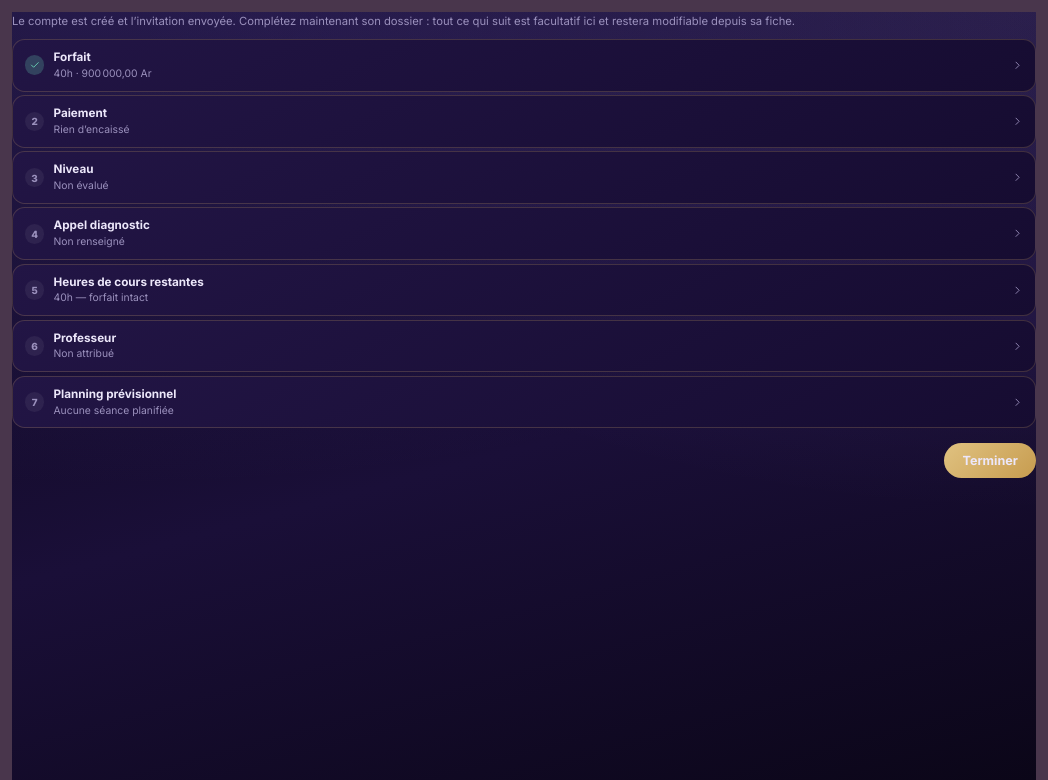
Scenario: CompleterDossierEtudiant › demande un professeur avant de laisser planifier
Click the button "7 Planning prévisionnel Aucune séance planifiée".
click(115, 394)  # box [13,377,1035,428]
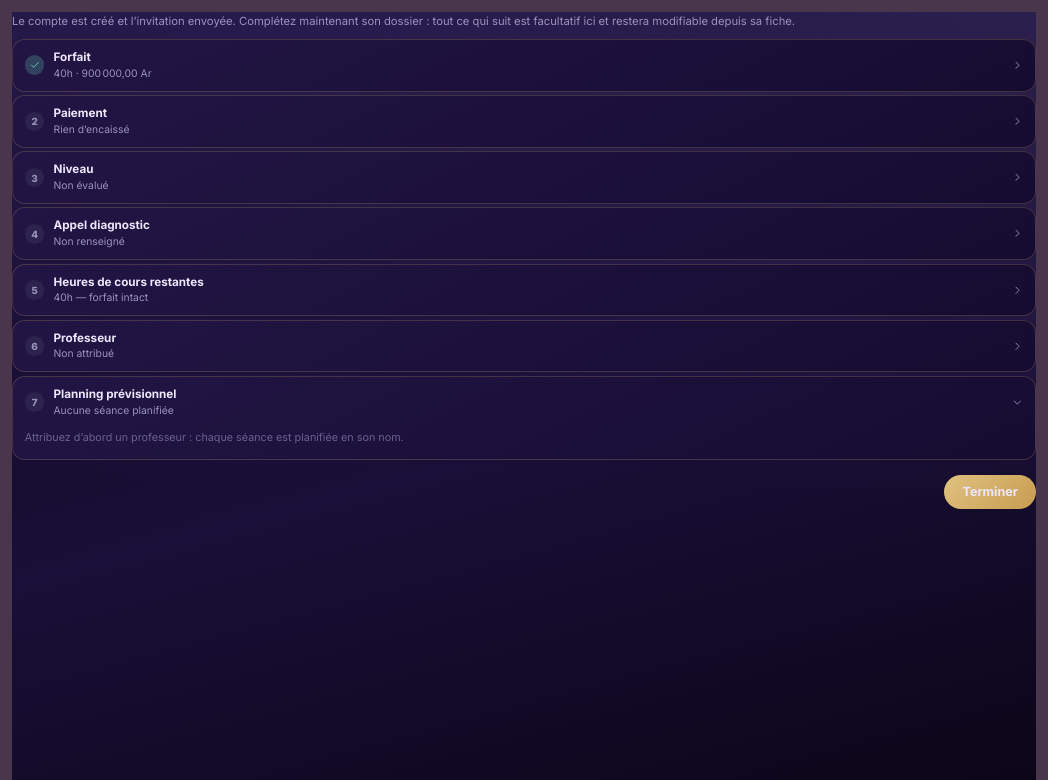
Result: the text "Attribuez d’abord un professeur" is shown at [25,431,404,444]
